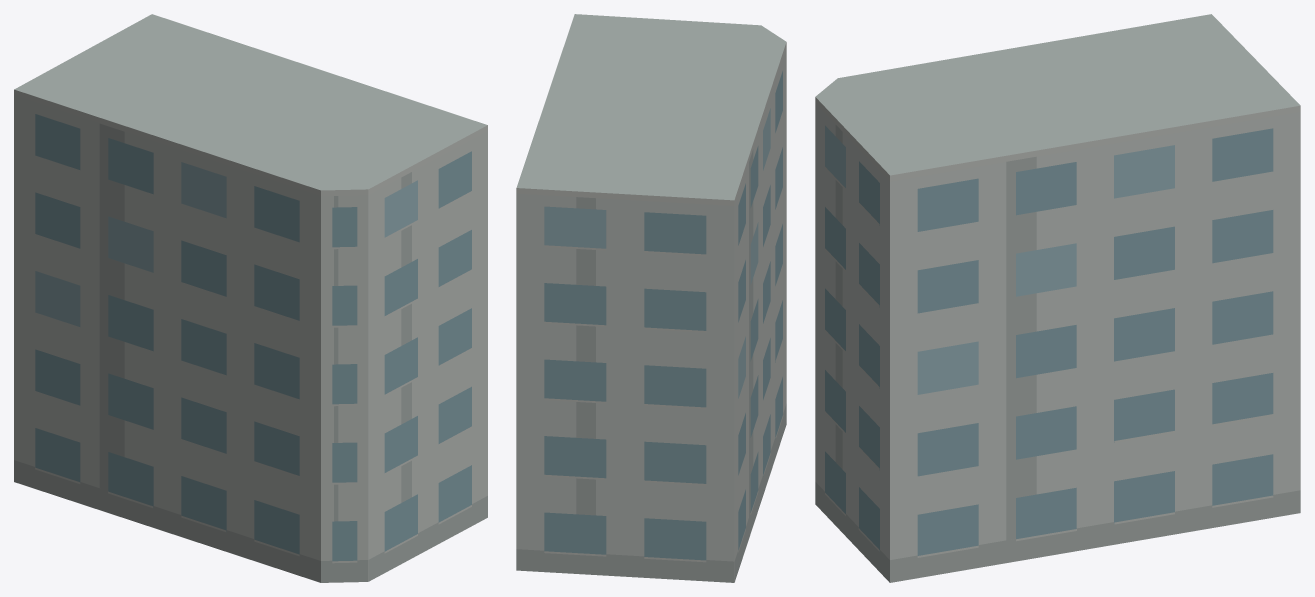
Rendered from survey-upis-32853078.glb.
3 views of the same model, side by side, from view 1: azimuth 30°, elevation 25°; view 2: azimuth 150°, elevation 25°; view 3: azimuth 270°, elevation 25° (orthographic). The views are drawn at different scales.
Parts seen in each view (by area): view 1: survey-upis-32853078.tmp; view 2: survey-upis-32853078.tmp; view 3: survey-upis-32853078.tmp.
Part boxes in pixels (x1,y1,x2,y2): survey-upis-32853078.tmp: (14, 14, 487, 582); survey-upis-32853078.tmp: (516, 14, 786, 582); survey-upis-32853078.tmp: (815, 14, 1300, 582).
Size of the model in its own units: 13.91 by 16.35 by 17.67.
